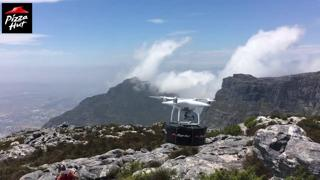UAV: (149, 96, 216, 124)
